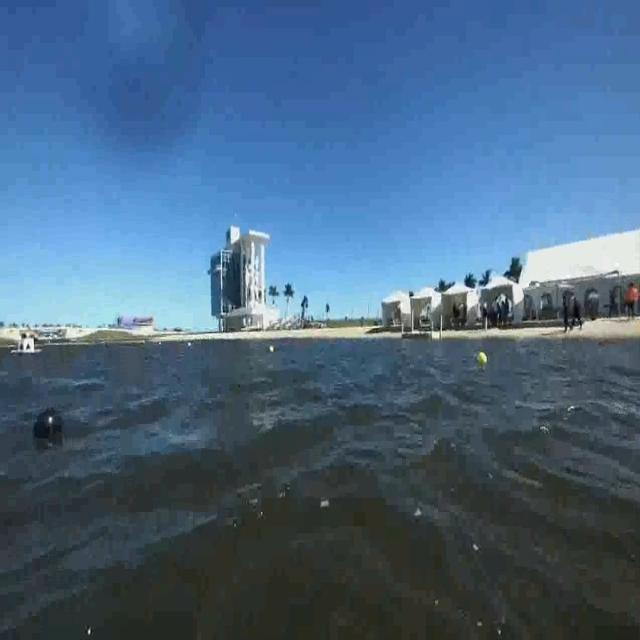black-buoy: (33, 407, 62, 448)
yellow-buoy: (479, 350, 488, 365)
